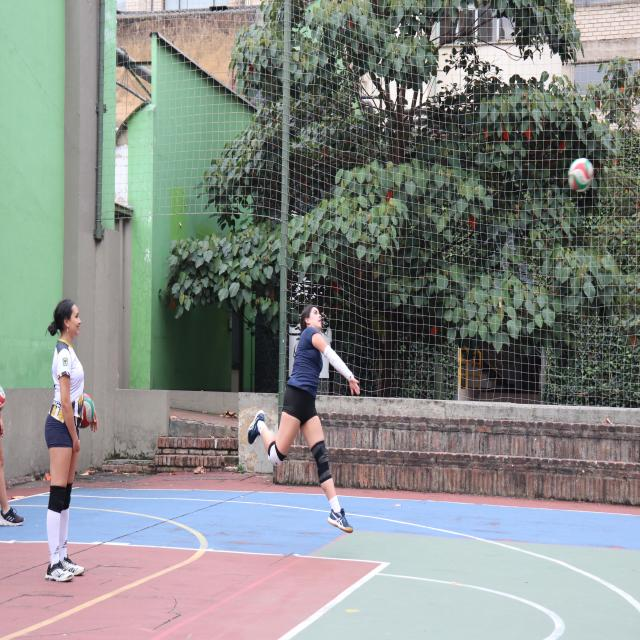volleyball: (568, 157, 593, 190), (78, 393, 95, 429)
